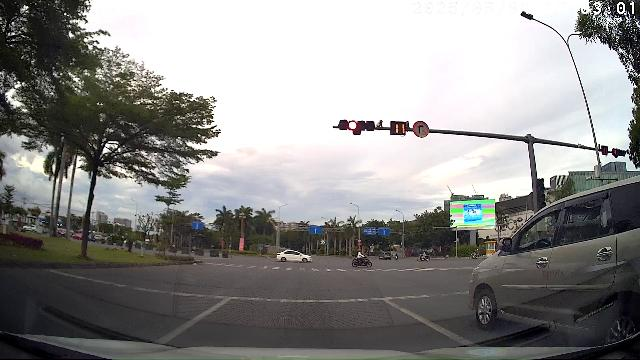123b-cam-re-phai: (413, 121, 429, 138)
